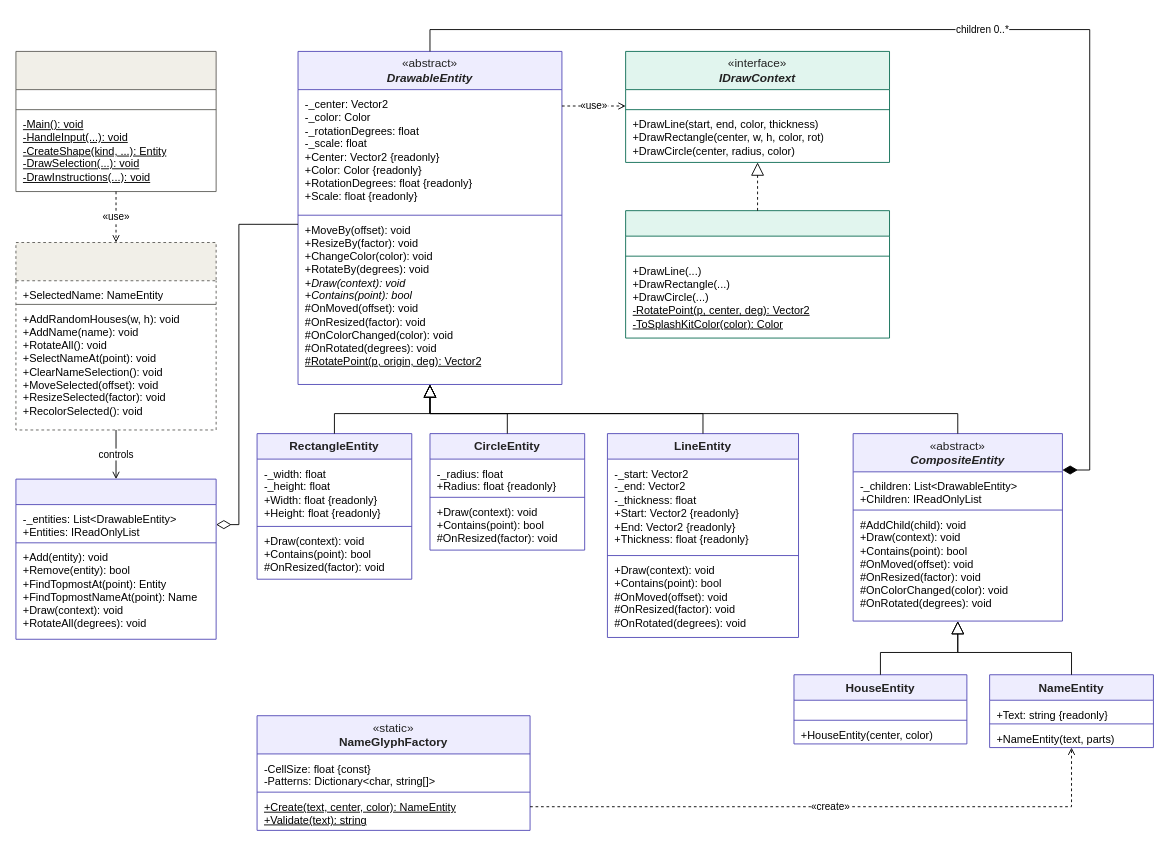
This 1169x849 diagram has some shape labels left out. The shapes that lost their labels are listed below. From the top down, each one's box as (x1, y1, x2, y2) in pixels, then its label:
(15, 51, 216, 192): «static» Program
(625, 210, 890, 338): SplashKitDrawContext
(15, 242, 216, 430): «not uploaded» SceneController
(15, 478, 216, 639): Scene
